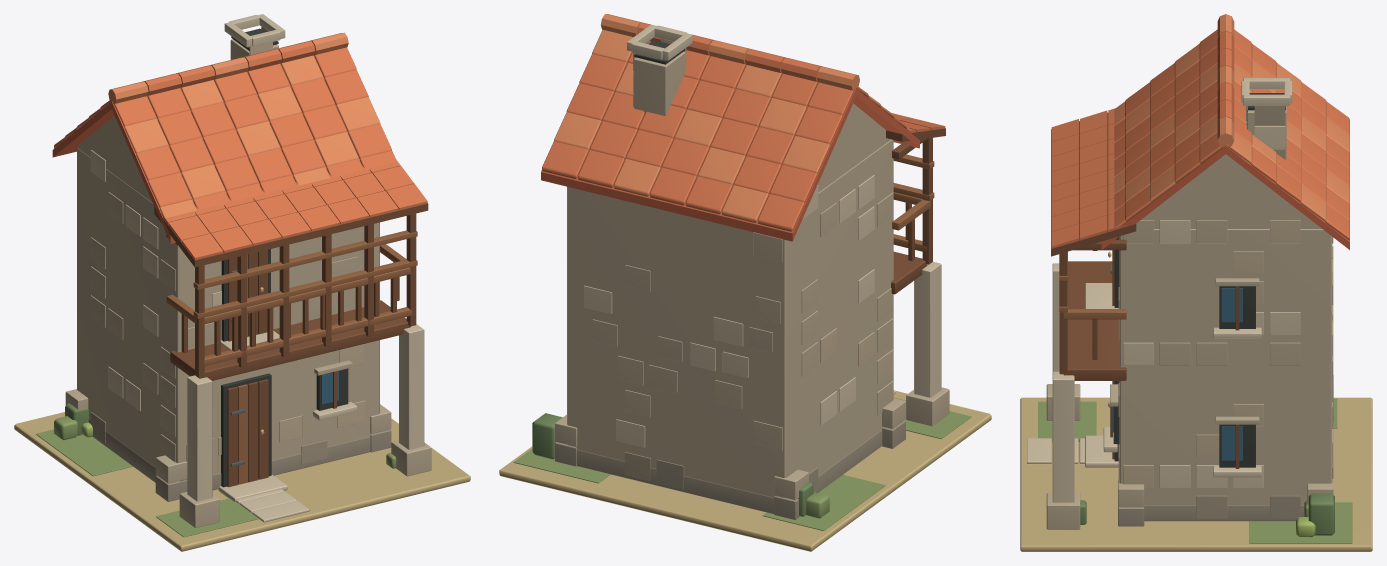
Rendered from house_tall_veranda.glb.
3 views of the same model, side by side, from view 1: azimuth 30°, elevation 25°; view 2: azimuth 150°, elevation 25°; view 3: azimuth 270°, elevation 25° (orthographic). The views are drawn at different scales.
Parts seen in each view (by area): view 1: house_tall_veranda; view 2: house_tall_veranda; view 3: house_tall_veranda.
Part boxes in pixels (bbox=[...]): house_tall_veranda: bbox=[14, 14, 470, 551]; house_tall_veranda: bbox=[499, 14, 991, 551]; house_tall_veranda: bbox=[1020, 14, 1372, 551].
Size of the model in its own units: 2.4 by 3.11 by 2.4.
